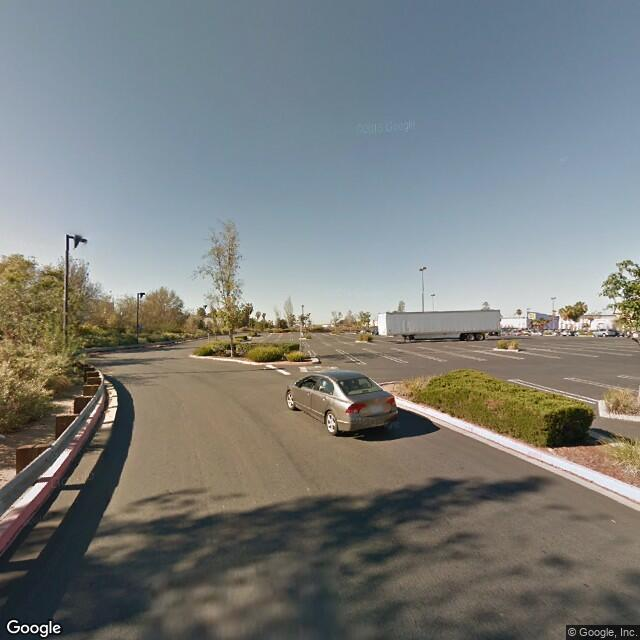litter: (547, 445, 558, 454), (1, 433, 11, 438)
